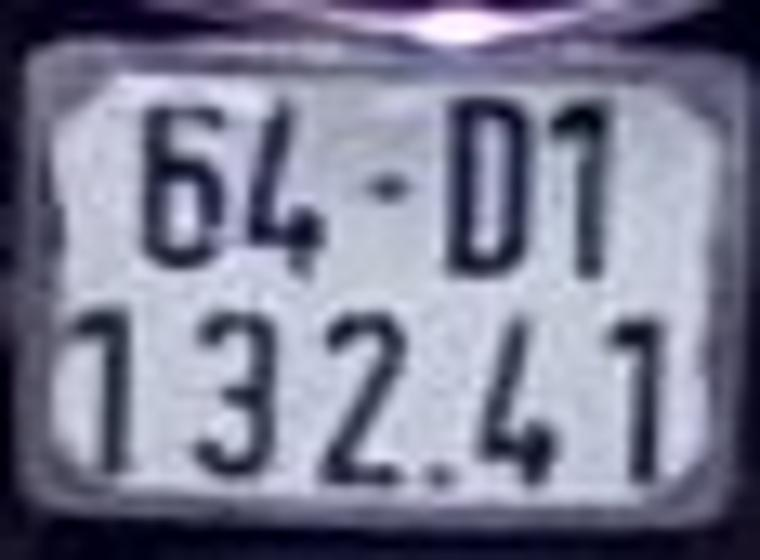-: (356, 161, 413, 209)
.: (419, 457, 466, 503)
1: (543, 86, 617, 288), (601, 311, 679, 499), (71, 296, 144, 480)
2: (318, 305, 410, 488)
3: (189, 306, 285, 487)
4: (241, 89, 329, 290), (478, 311, 560, 485)
6: (131, 90, 231, 279)
D: (442, 87, 533, 283)
